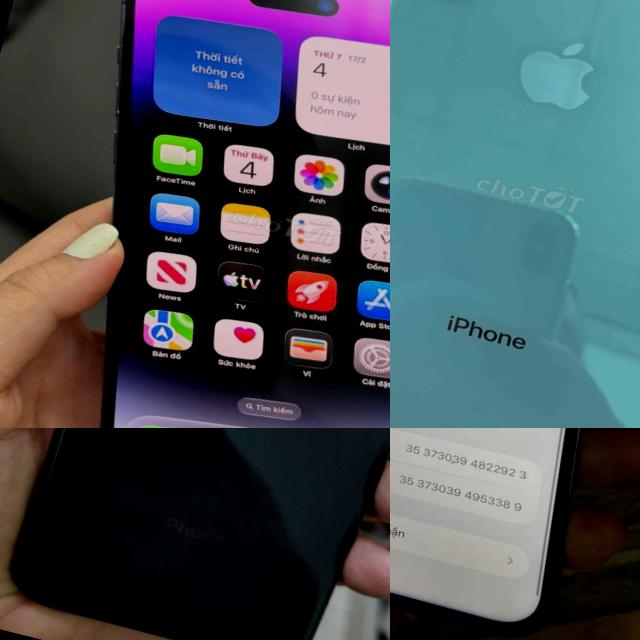gen_12_13: (390, 428, 640, 640)
gen_14: (6, 0, 390, 428)
gen_7_8: (13, 428, 390, 640)
gen_x_xs: (390, 0, 640, 428)
